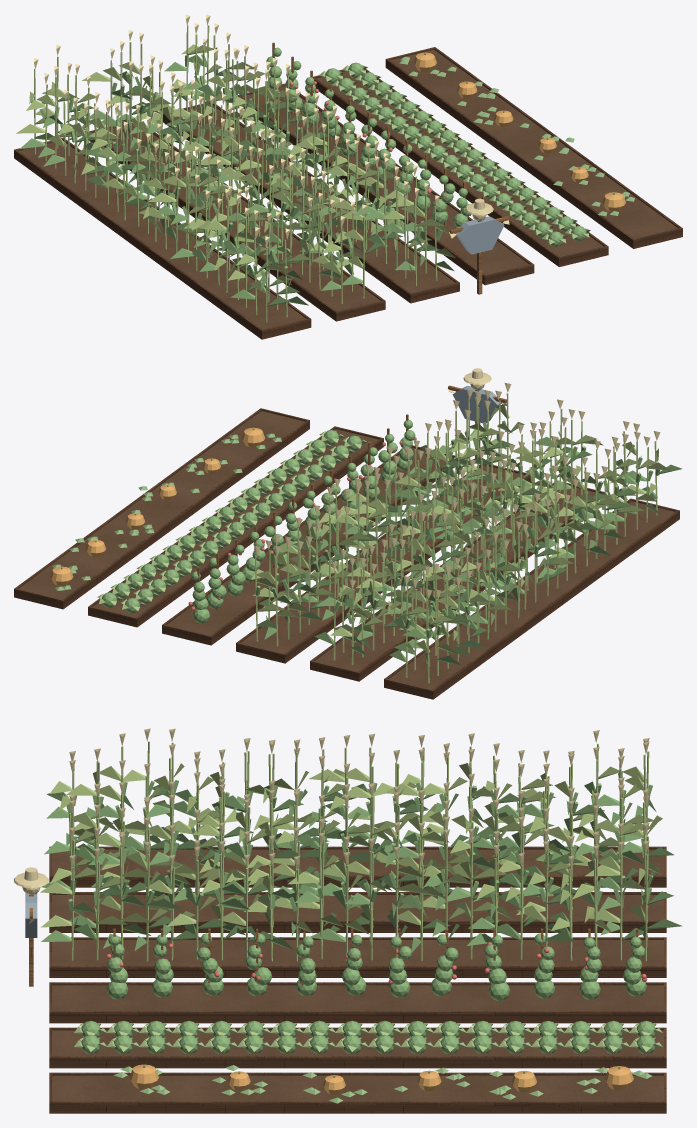
The model's file is garden.glb.
3 views of the same model, one above another, from view 1: azimuth 30°, elevation 25°; view 2: azimuth 150°, elevation 25°; view 3: azimuth 270°, elevation 25° (orthographic). The views are drawn at different scales.
Visible parts, largest first — view 1: garden_soil, garden_corn, garden_green_v, garden_dkwood, garden_tassel, garden_leaf2, garden_pumpkin, garden_leaf, garden_fabric, garden_wood; view 2: garden_soil, garden_green_v, garden_corn, garden_dkwood, garden_tassel, garden_leaf2, garden_pumpkin, garden_leaf, garden_fabric, garden_wood; view 3: garden_soil, garden_green_v, garden_dkwood, garden_corn, garden_tassel, garden_leaf2, garden_pumpkin, garden_leaf, garden_wood, garden_hay.
Boxes of the visible parts, left/top/right/bottom form: garden_soil: left=19, top=49, right=677, bottom=329; garden_corn: left=16, top=25, right=455, bottom=322; garden_green_v: left=20, top=47, right=614, bottom=306; garden_dkwood: left=14, top=47, right=682, bottom=339; garden_tassel: left=34, top=14, right=439, bottom=246; garden_leaf2: left=319, top=65, right=590, bottom=244; garden_pumpkin: left=413, top=52, right=625, bottom=211; garden_leaf: left=399, top=56, right=634, bottom=216; garden_fabric: left=455, top=216, right=504, bottom=254; garden_wood: left=272, top=42, right=509, bottom=294; garden_soil: left=19, top=411, right=675, bottom=689; garden_green_v: left=61, top=420, right=682, bottom=666; garden_corn: left=251, top=393, right=670, bottom=683; garden_dkwood: left=14, top=408, right=679, bottom=699; garden_tassel: left=254, top=383, right=660, bottom=599; garden_leaf2: left=97, top=431, right=367, bottom=610; garden_pumpkin: left=50, top=427, right=265, bottom=586; garden_leaf: left=52, top=433, right=281, bottom=590; garden_fabric: left=452, top=385, right=501, bottom=422; garden_wood: left=197, top=385, right=506, bottom=623; garden_soil: left=52, top=849, right=663, bottom=1101; garden_green_v: left=41, top=780, right=682, bottom=1077; garden_dkwood: left=49, top=846, right=666, bottom=1113; garden_corn: left=40, top=741, right=662, bottom=961; garden_tassel: left=69, top=728, right=649, bottom=868; garden_leaf2: left=74, top=1023, right=662, bottom=1051; garden_pumpkin: left=129, top=1064, right=633, bottom=1094; garden_leaf: left=113, top=1065, right=651, bottom=1103; garden_wood: left=29, top=895, right=638, bottom=999; garden_hay: left=14, top=867, right=48, bottom=924.
Size of the model in its own units: 10.68 by 2.62 by 11.26.
12 materials, 3 textured.
